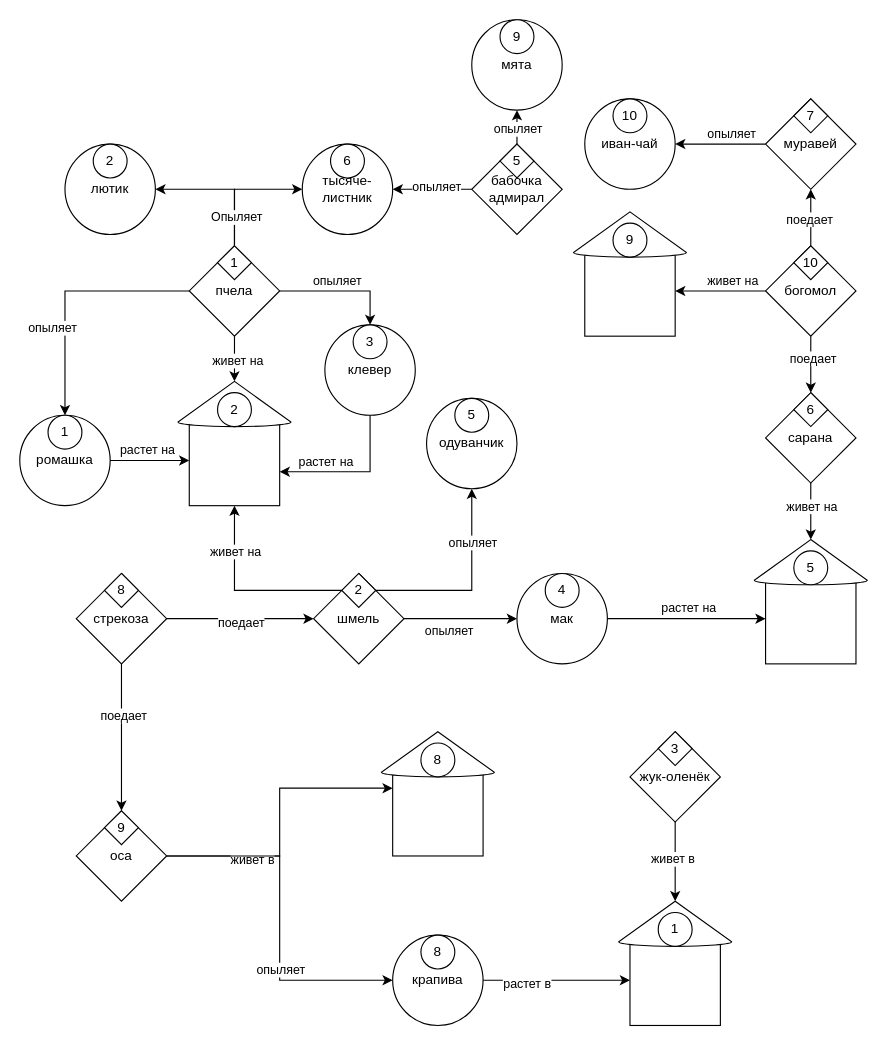
The diagram is 887 pixels wide and 1045 high, and some of its shapes have lost their labels. The shapes that lost their labels are listed below. From the top down, each one's centre as x and y in pixels, then its label:
At (629,290): "лесная опушка".
At (234,460): "луг".
At (810,618): "поляна".
At (437,810): "сад".
At (674,979): "лес".
